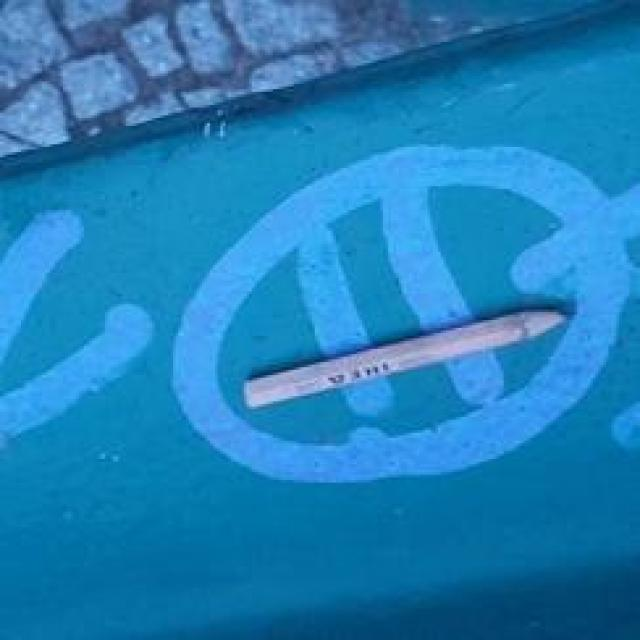pencil: (246, 312, 566, 407)
